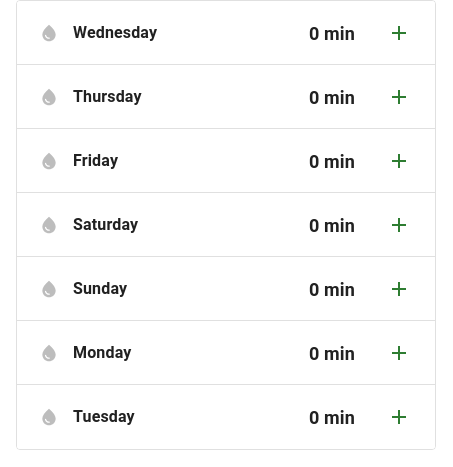
Test case: WeekLogTable › allows entering watering minutes through edit mode
# Click to enter edit mode
Click the button named "add/edit minutes" in the row of "Wednesday" at x=399, y=33, box [379, 13, 419, 53]
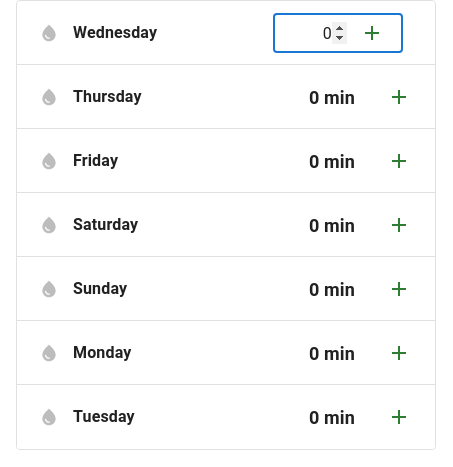
# Use fireEvent.change to avoid NaN during clear
Replace the text in the number field with "30" at x=310, y=33, box [273, 13, 347, 53]
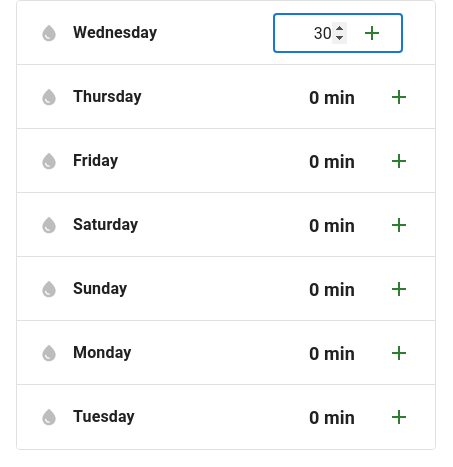
Press Tab
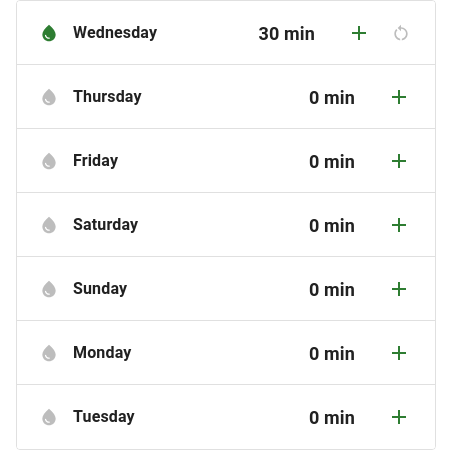
Check: the text "30 min" is shown, box [258, 22, 315, 44]
